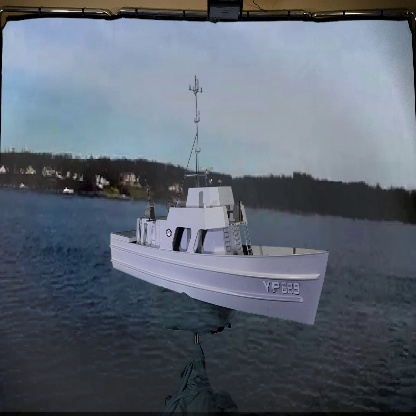YP689: (110, 75, 330, 326)
